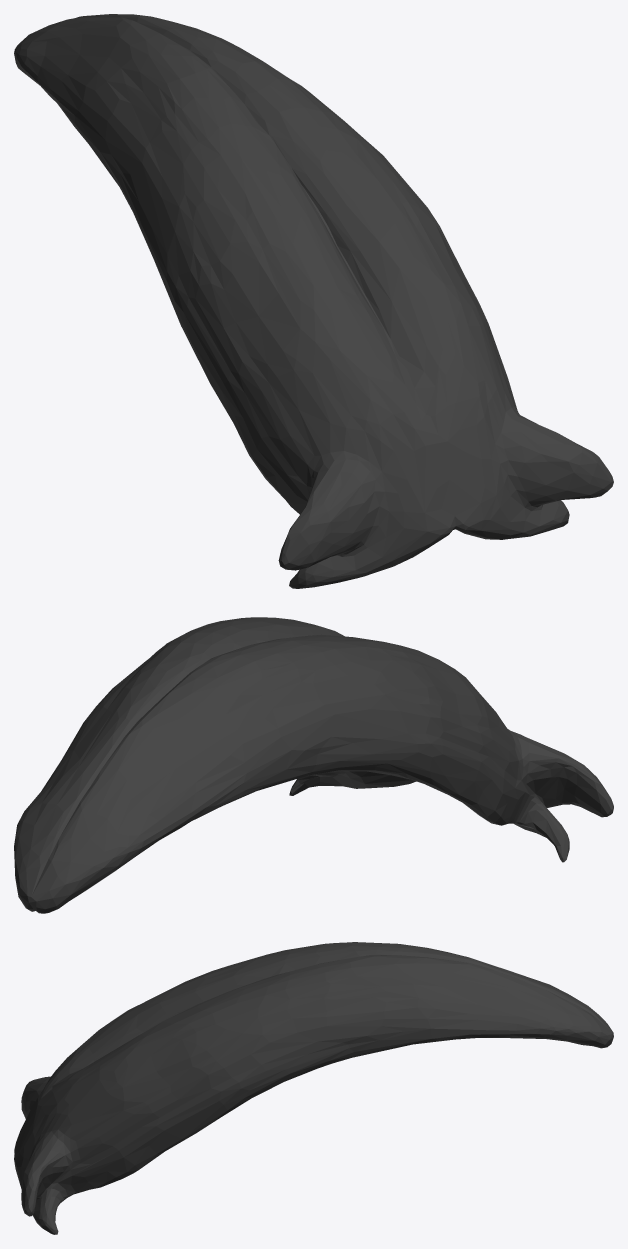
File: m_pectoralis_profundus.glb
The picture shows the model from 3 angles, top to bottom: view 1: azimuth 30°, elevation 25°; view 2: azimuth 150°, elevation 25°; view 3: azimuth 270°, elevation 25°; orthographic projection. The views are drawn at different scales.
Visible parts, largest first — view 1: m_pectoralis_profundus; view 2: m_pectoralis_profundus; view 3: m_pectoralis_profundus.
Part boxes in pixels (bbox=[...]): m_pectoralis_profundus: bbox=[14, 14, 613, 588]; m_pectoralis_profundus: bbox=[14, 617, 613, 913]; m_pectoralis_profundus: bbox=[14, 942, 613, 1234].
Bounding box in the file's own units: 0.00336 × 0.00322 × 0.00743.
1 material, 1 textured.
